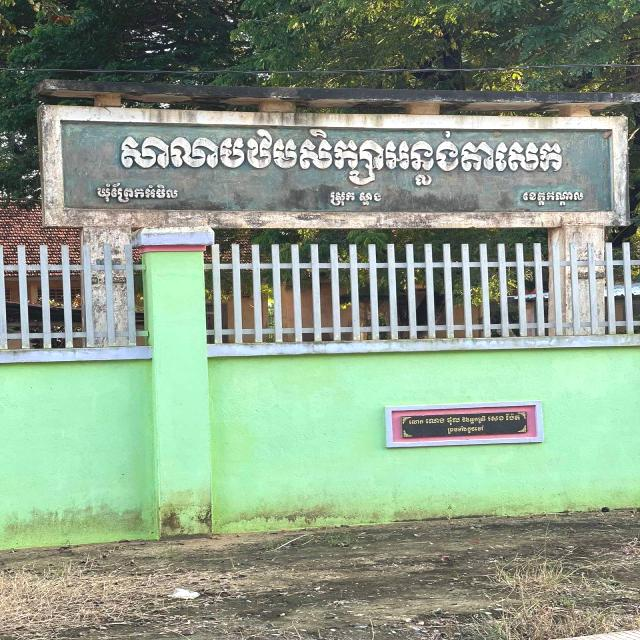Yolov11_80vkh: (119, 128, 568, 182), (93, 182, 180, 207), (523, 184, 593, 211), (323, 184, 385, 212)
